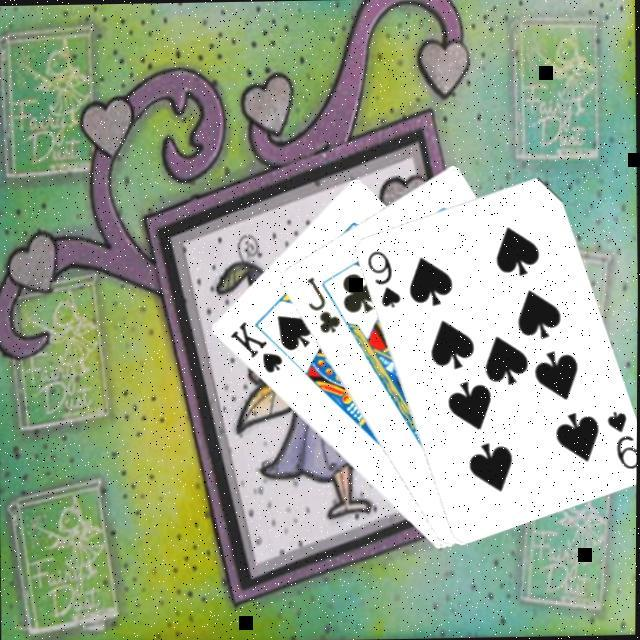9S: (362, 245, 402, 310), (600, 405, 637, 470)
JC: (301, 271, 342, 336)
KS: (224, 316, 284, 376)
